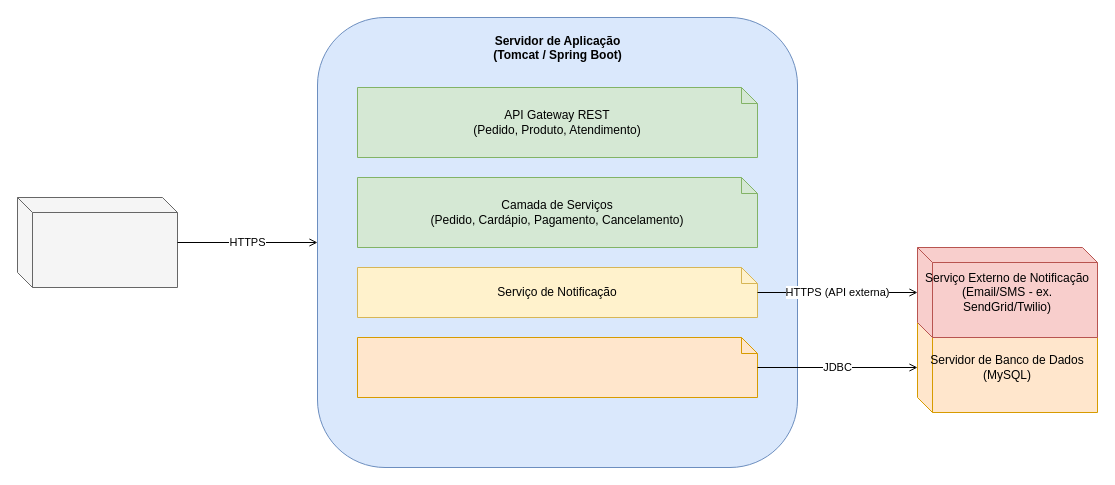
Image size: 1115x485. Some labels were removed from this diagram. The shapes that lost their labels are listed below. From the top down, each one's centre as x and y in pixels, then its label:
At pixel 97 242: "Dispositivo Cliente (Navegador)".
At pixel 557 367: "Repositório (DAO / JPA)".
